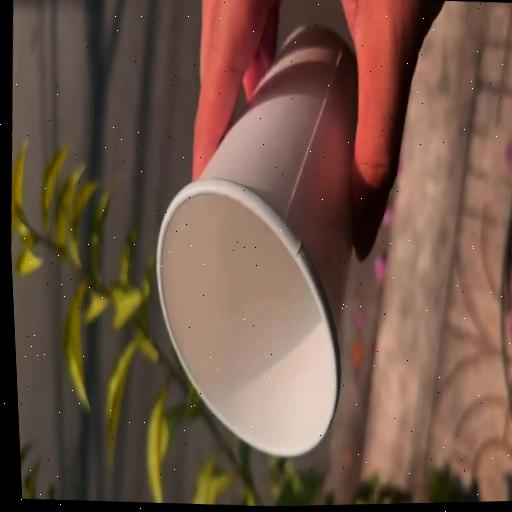Ly_giay: (156, 27, 357, 455)
